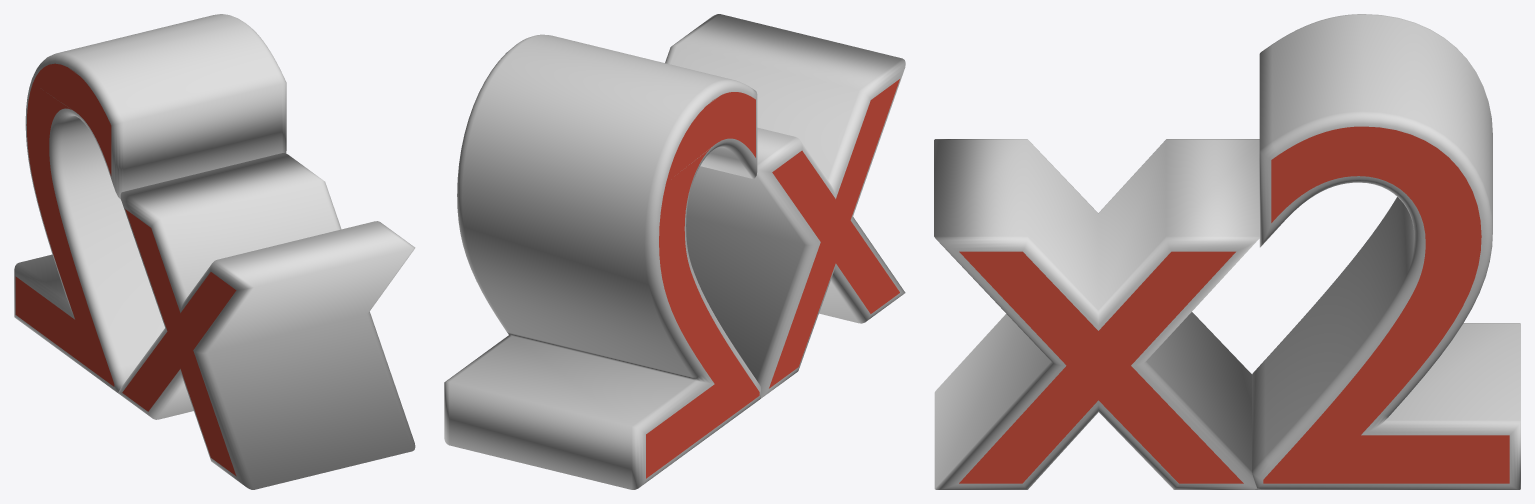
File: ItemDouble.fbx
3 views of the same model, side by side, from view 1: azimuth 30°, elevation 25°; view 2: azimuth 150°, elevation 25°; view 3: azimuth 270°, elevation 25° (orthographic). The views are drawn at different scales.
Parts seen in each view (by area): view 1: Text; view 2: Text; view 3: Text.
Part boxes in pixels (<box>): Text: <box>14,14,415,489</box>; Text: <box>444,14,905,489</box>; Text: <box>934,14,1520,489</box>.
Bounding box in the file's own units: 44 × 73.1 × 103.
